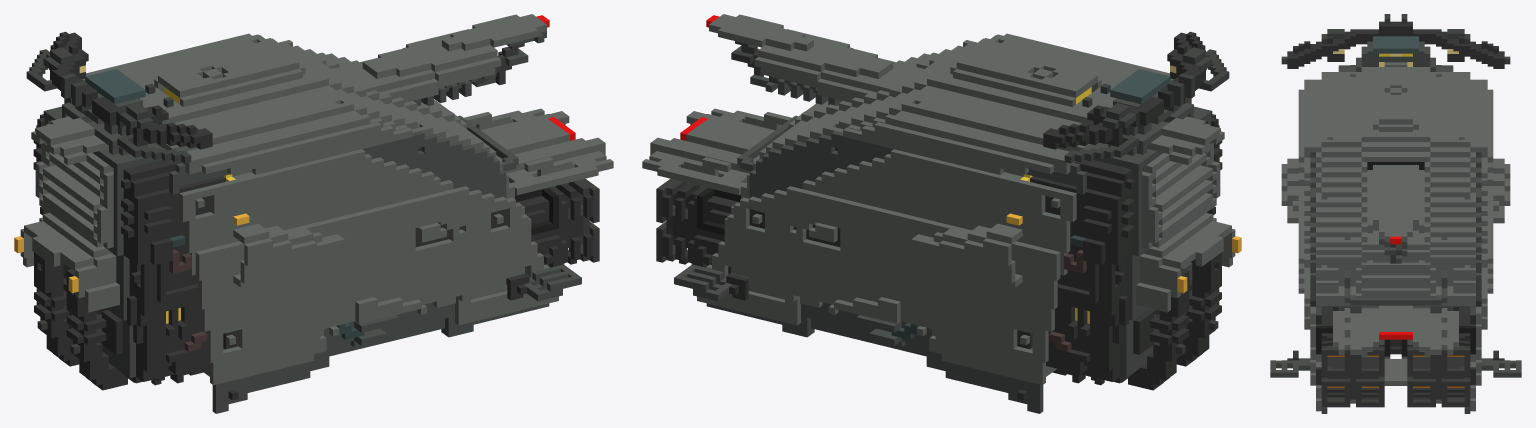
The model's file is Racer-0-Racer.obj.
3 views of the same model, side by side, from view 1: azimuth 30°, elevation 25°; view 2: azimuth 150°, elevation 25°; view 3: azimuth 270°, elevation 25° (orthographic). The views are drawn at different scales.
Visible parts, largest first — view 1: Racer; view 2: Racer; view 3: Racer.
Boxes of the visible parts, x1,y1,x2,y2 form: Racer: [14, 14, 613, 413]; Racer: [642, 14, 1241, 413]; Racer: [1270, 14, 1521, 413].
Bounding box in the file's own units: 8.6 × 4.9 × 4.4.
1 material, 1 textured.
